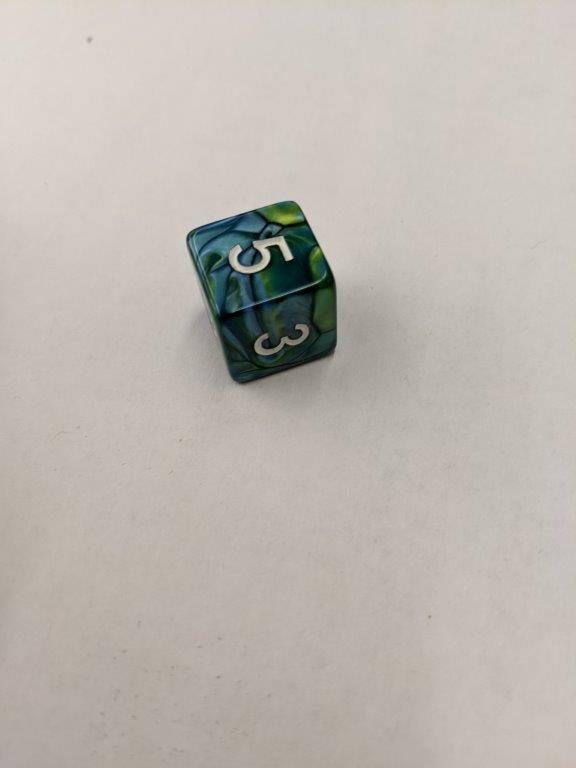d6-5: (186, 198, 338, 386)
